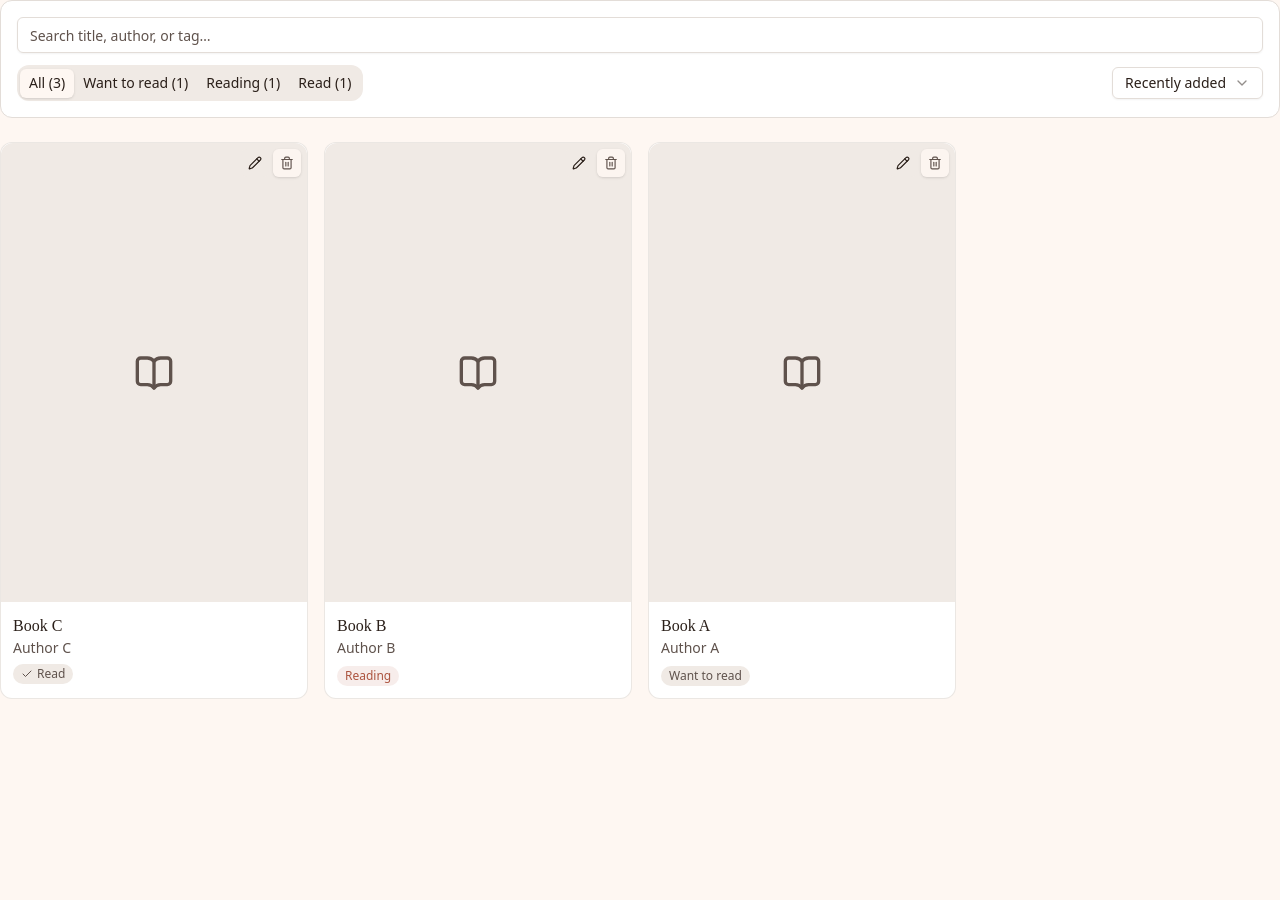
Test: ShelfList › filtering › shows only 'want' books when Want tab is clicked
Click the tab "Want to read (1)": click(136, 83) [74,68,197,98]
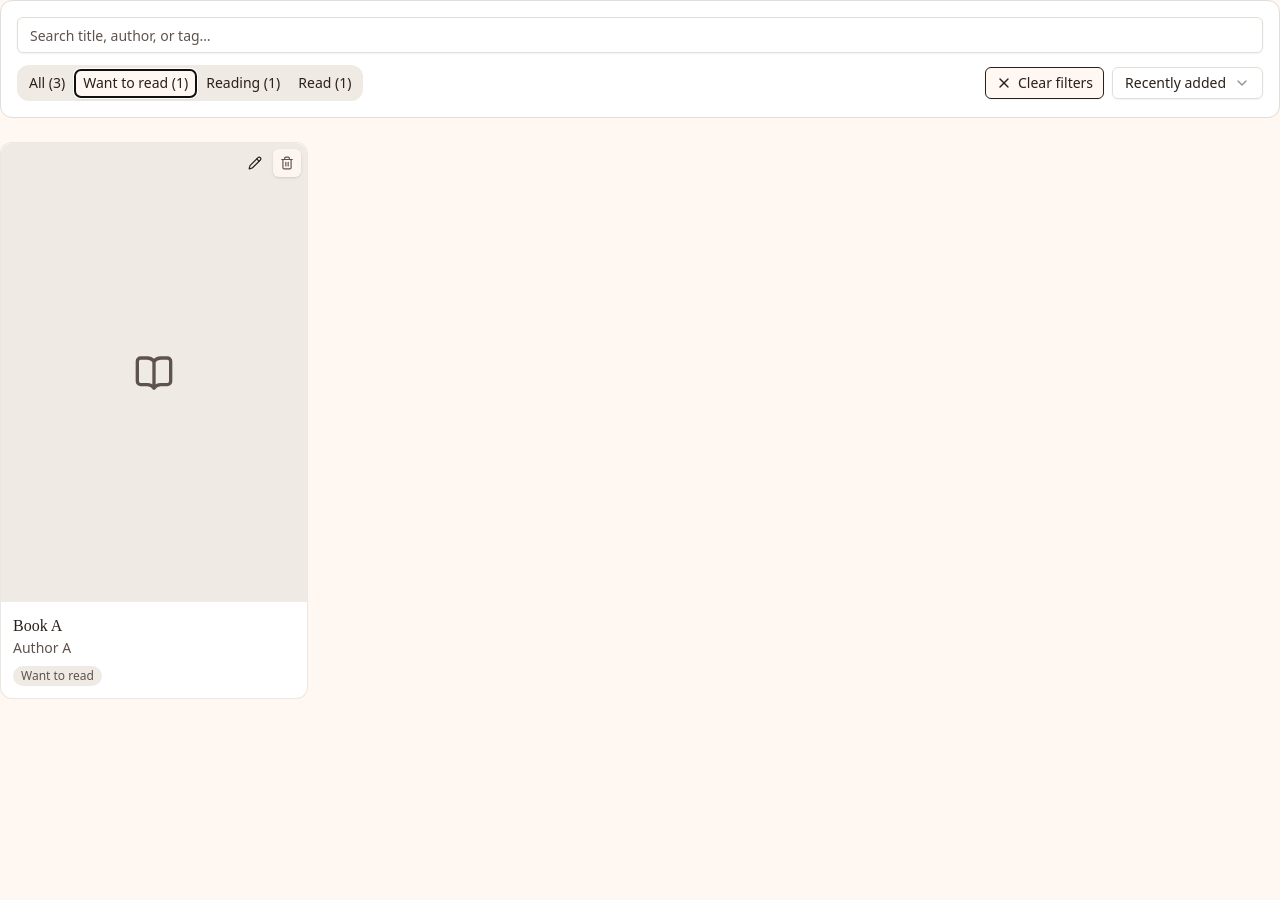
Expected: the heading "Book A" is shown, [13,617,62,634]
Expected: the link "Book B" is gone
Expected: the link "Book C" is gone
